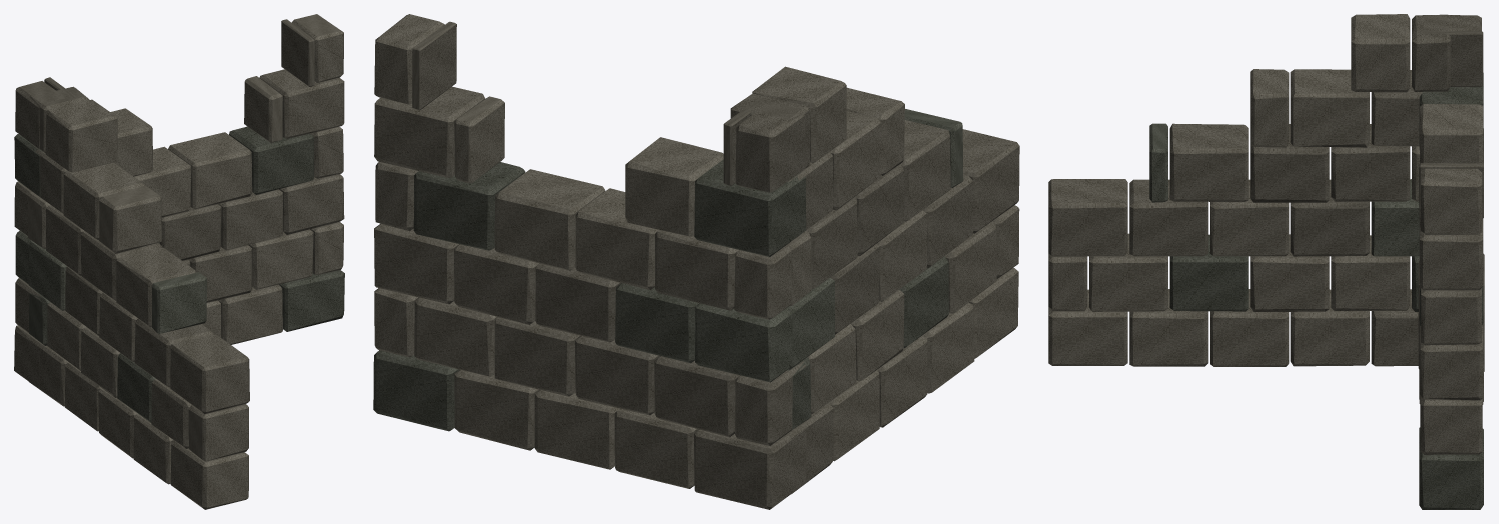
Rendered from env_ruin_walls_09_corner_ruin.glb.
3 renders of one model, left to right at view 1: azimuth 30°, elevation 25°; view 2: azimuth 150°, elevation 25°; view 3: azimuth 270°, elevation 25°, orthographic. The views are drawn at different scales.
Size of the model in its own units: 2 by 1.79 by 2.16.
1 material, 1 textured.
